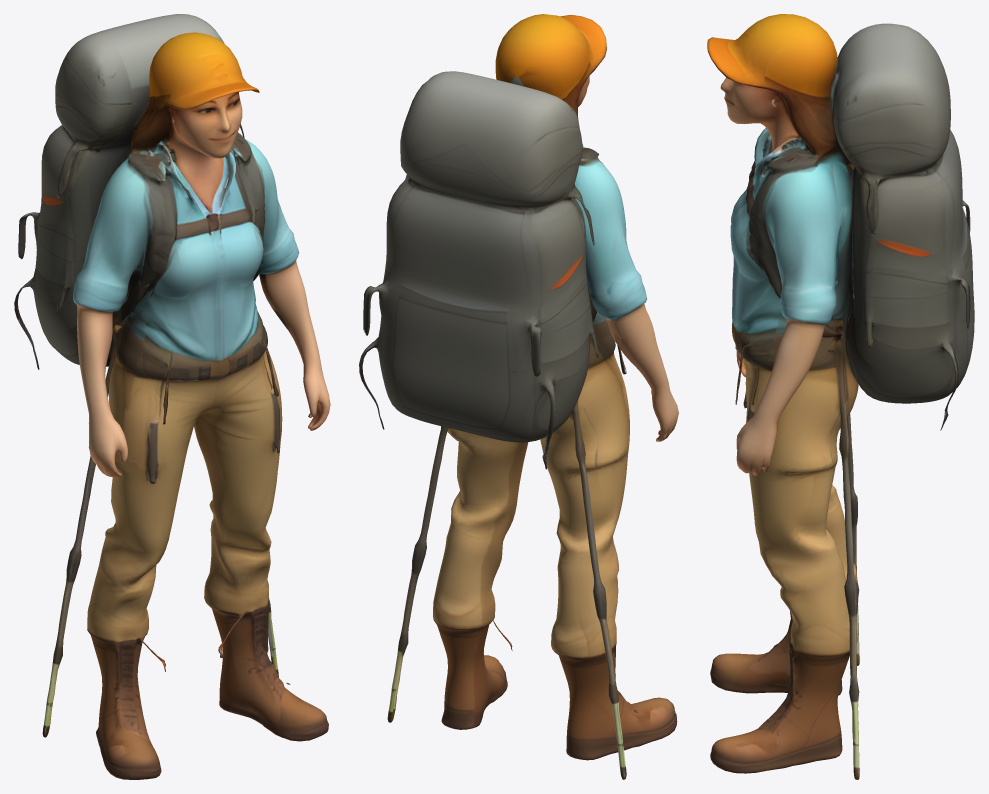
The model's file is sierra_the_trailblazer.glb.
3 renders of one model, left to right at view 1: azimuth 30°, elevation 25°; view 2: azimuth 150°, elevation 25°; view 3: azimuth 270°, elevation 25°, orthographic.
Parts seen in each view (by area): view 1: model; view 2: model; view 3: model.
Boxes of the visible parts, x1,y1,x2,y2 form: model: (14,14,330,779); model: (359,14,678,779); model: (707,14,974,779).
Bounding box in the file's own units: 1.6 × 4.54 × 1.56.
Materials: 1 (1 with a texture image).
